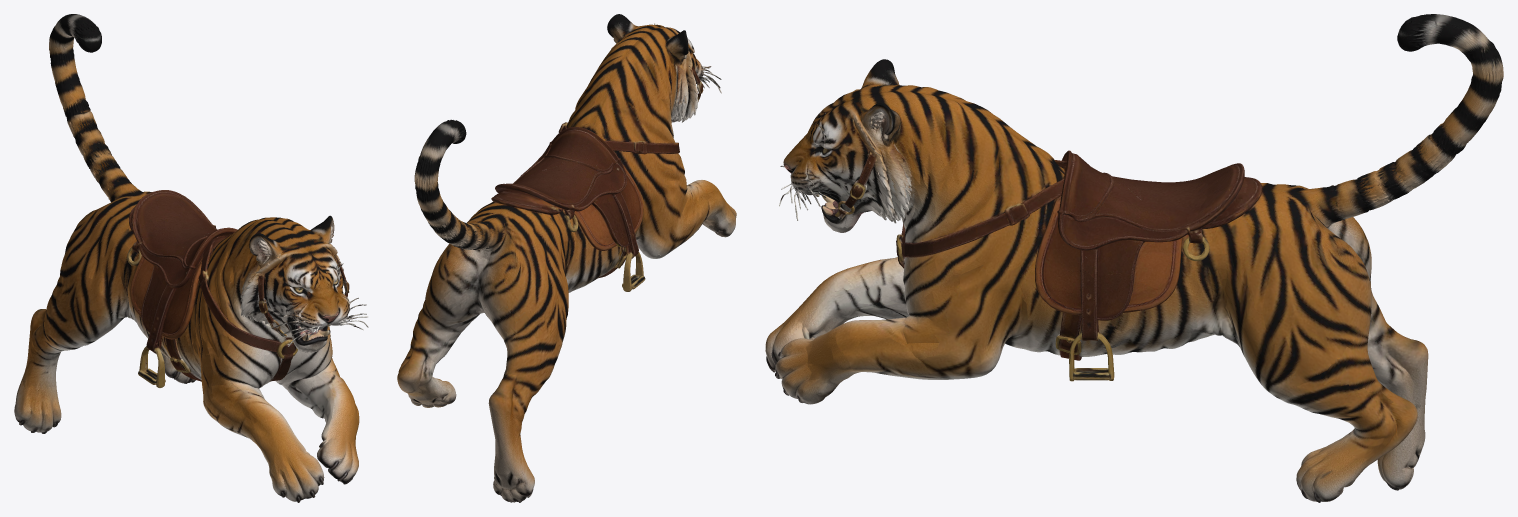
File: tiger.glb
3 renders of one model, left to right at view 1: azimuth 30°, elevation 25°; view 2: azimuth 150°, elevation 25°; view 3: azimuth 270°, elevation 25°, orthographic. The views are drawn at different scales.
Size of the model in its own units: 0.5922 by 1.44 by 1.9.
1 material, 1 textured.
